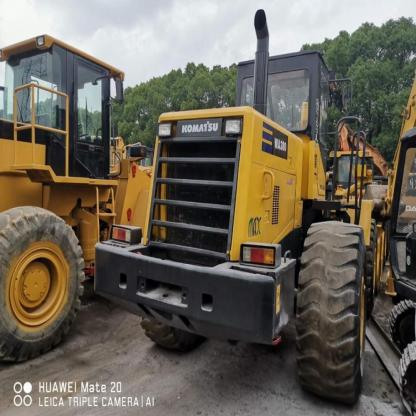bull_dozer/loader/grader: (100, 12, 386, 387), (1, 29, 121, 386)
